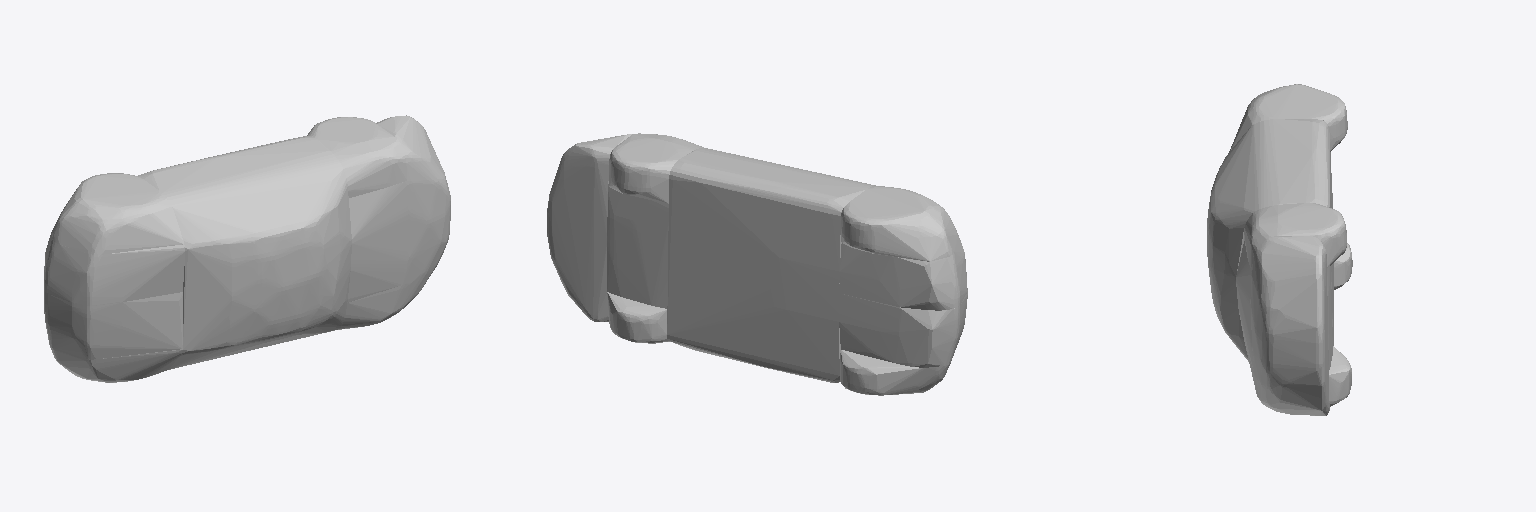
Rendered from coacd_collision.obj.
The picture shows the model from 3 angles: view 1: azimuth 30°, elevation 25°; view 2: azimuth 150°, elevation 25°; view 3: azimuth 270°, elevation 25°; orthographic projection.
Visible parts, largest first — view 1: geometry_1, geometry_5, geometry_8, geometry_6, geometry_0, geometry_7, geometry_4, geometry_3, geometry_2; view 2: geometry_1, geometry_0, geometry_8, geometry_5, geometry_7, geometry_6, geometry_4, geometry_3, geometry_2; view 3: geometry_1, geometry_0, geometry_4, geometry_5, geometry_7, geometry_2, geometry_3.
Boxes of the visible parts, <box> form: geometry_1: <box>138,136,351,369</box>; geometry_5: <box>52,173,183,254</box>; geometry_8: <box>44,291,182,359</box>; geometry_6: <box>44,232,184,305</box>; geometry_0: <box>376,115,450,308</box>; geometry_7: <box>347,181,407,302</box>; geometry_4: <box>307,117,406,197</box>; geometry_3: <box>49,344,182,382</box>; geometry_2: <box>339,284,404,329</box>; geometry_1: <box>667,148,875,382</box>; geometry_0: <box>547,134,631,321</box>; geometry_8: <box>839,292,967,367</box>; geometry_5: <box>841,186,957,261</box>; geometry_7: <box>607,187,668,308</box>; geometry_6: <box>839,235,967,310</box>; geometry_4: <box>608,133,703,203</box>; geometry_3: <box>840,350,950,395</box>; geometry_2: <box>607,292,669,343</box>; geometry_1: <box>1207,119,1333,361</box>; geometry_0: <box>1250,236,1329,415</box>; geometry_4: <box>1244,203,1346,270</box>; geometry_5: <box>1229,84,1347,151</box>; geometry_7: <box>1236,241,1332,372</box>; geometry_2: <box>1246,346,1351,406</box>; geometry_3: <box>1334,243,1352,289</box>.
Size of the model in its own units: 90.12 by 39.41 by 28.28.